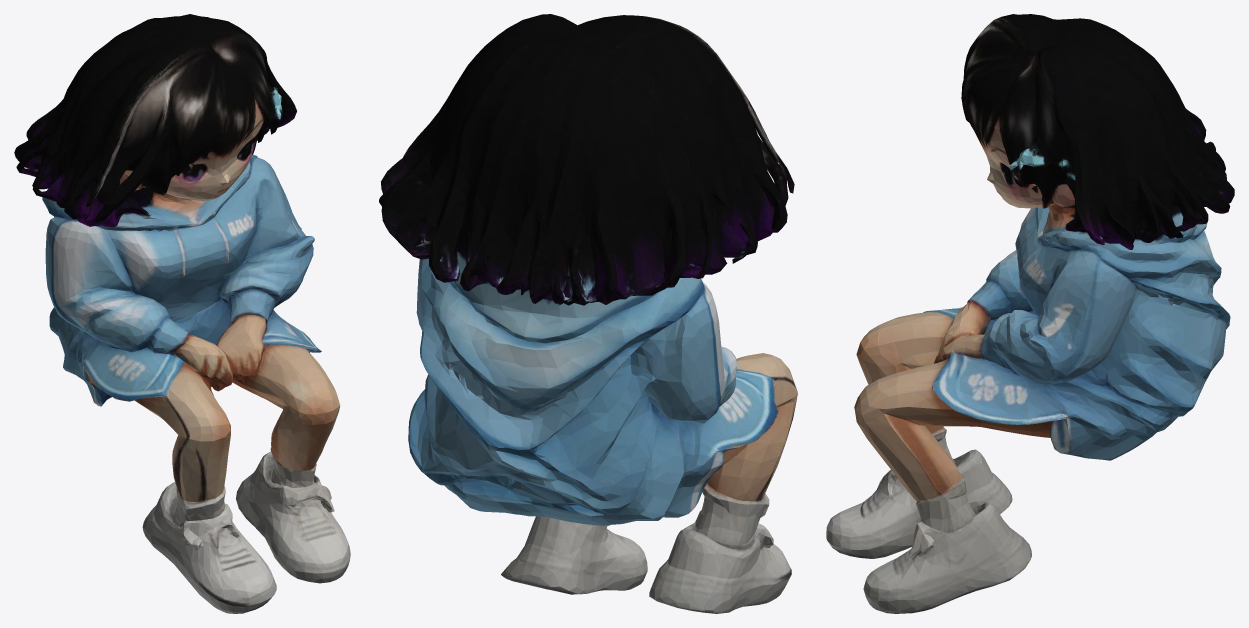
The model's file is char_luna.glb.
3 views of the same model, side by side, from view 1: azimuth 30°, elevation 25°; view 2: azimuth 150°, elevation 25°; view 3: azimuth 270°, elevation 25° (orthographic). The views are drawn at different scales.
Parts seen in each view (by area): view 1: char_luna_model; view 2: char_luna_model; view 3: char_luna_model.
Boxes of the visible parts, x1,y1,x2,y2 form: char_luna_model: (14, 14, 350, 613); char_luna_model: (379, 14, 797, 613); char_luna_model: (826, 14, 1234, 613).
Size of the model in its own units: 0.7944 by 1.42 by 0.9702.
Materials: 1 (1 with a texture image).
